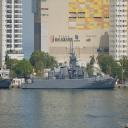Fragata: (21, 38, 121, 91)
